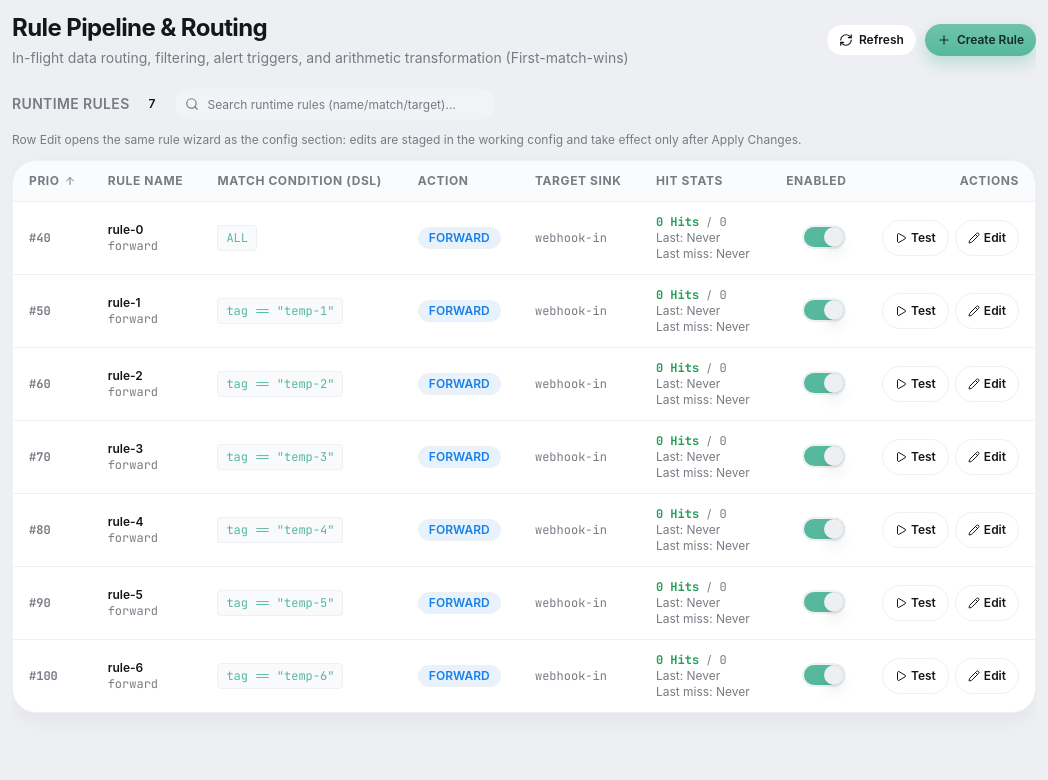
Test: RulesPage runtime search & priority sort › search narrows the runtime table by match text and target
Expected: the text "rule-3" is shown, [108, 441, 143, 456]
Expected: the text "rule-6" is shown, [108, 660, 143, 675]
Note: Type a match fragment → only the matching rows remain.
Type "temp-3" into the field with placeholder "Search runtime rules (name/match/target)…".
click(334, 104); type("temp-3")  # box [174, 88, 494, 120]
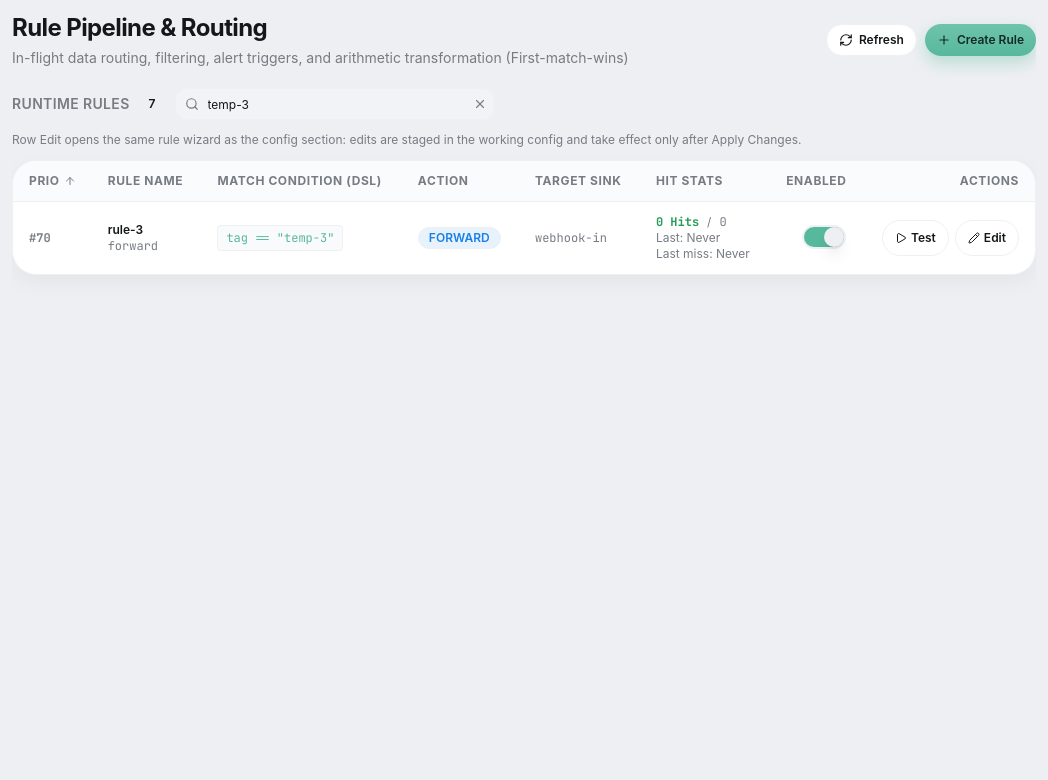
Expected: the text "rule-3" is shown, [108, 222, 143, 237]
Expected: the text "rule-6" is gone
Replace the text in the field with placeholder "Search runtime rules (name/match/target)…" with "webhook-in" at x=334, y=104, box [174, 88, 494, 120]
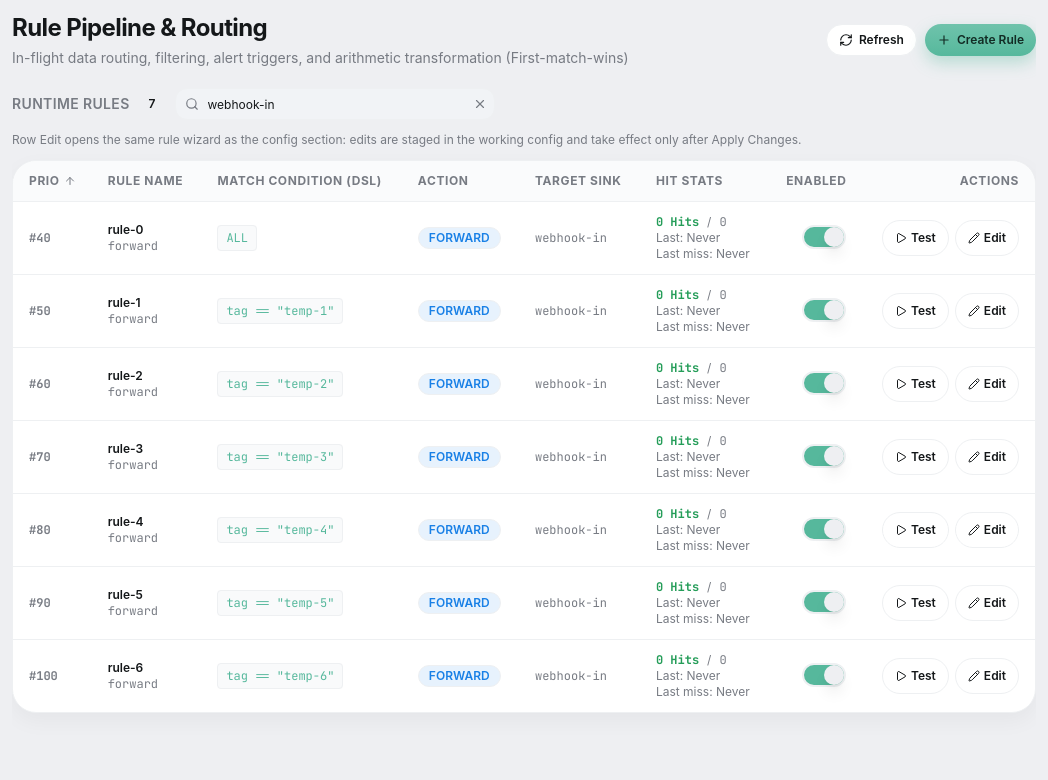
Expected: the text "rule-0" is shown, [108, 222, 144, 237]
Note: Gibberish shows the no-results state, not a blank card.
Replace the text in the field with placeholder "Search runtime rules (name/match/target)…" with "no-such-rule" at x=334, y=104, box [174, 88, 494, 120]
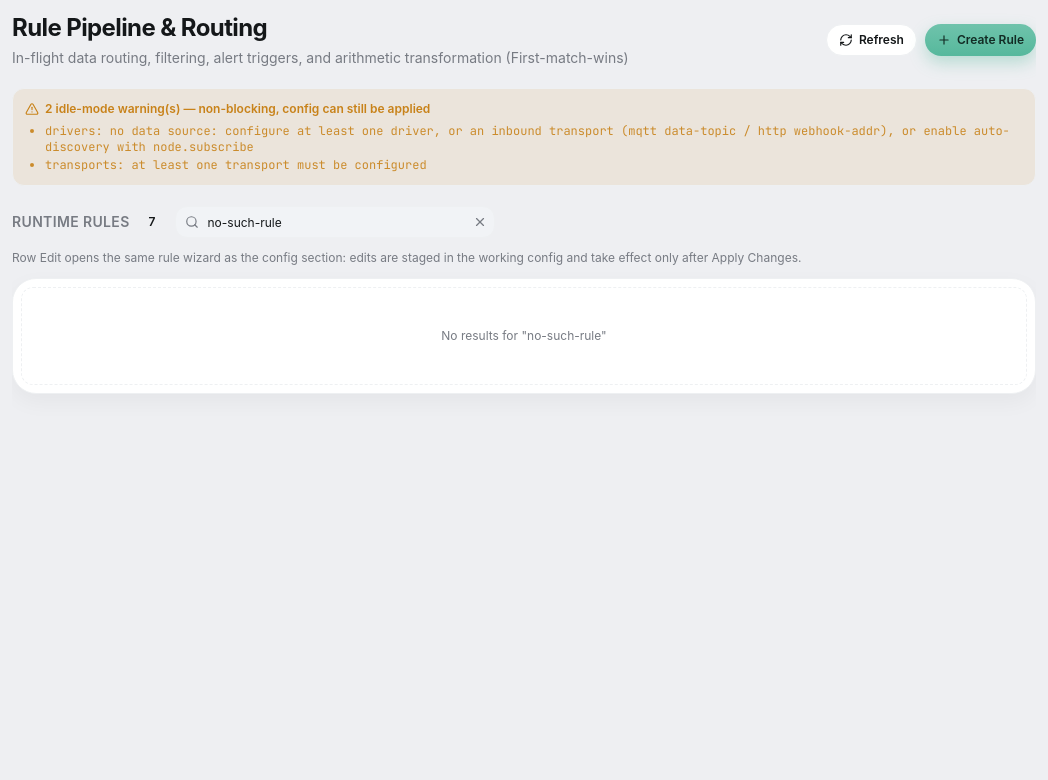
Expected: the text "No results for \"no-such-rule\"" is shown, [21, 287, 1027, 385]
Expected: the text "rule-0" is gone
